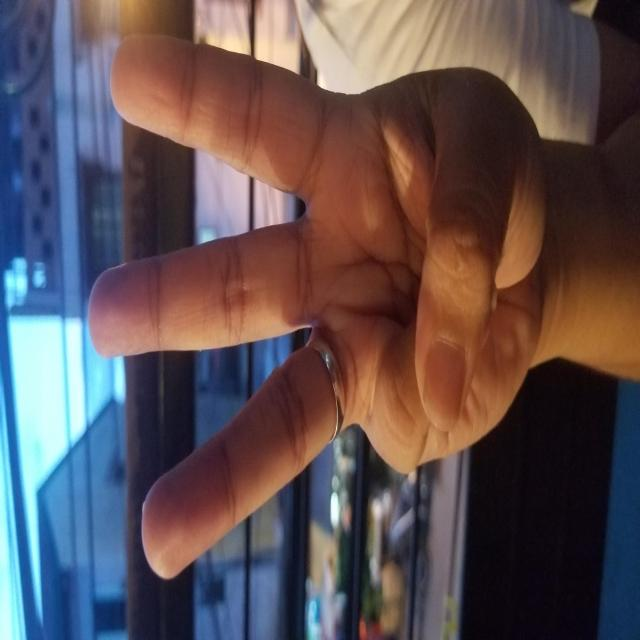W: (54, 86, 610, 549)
